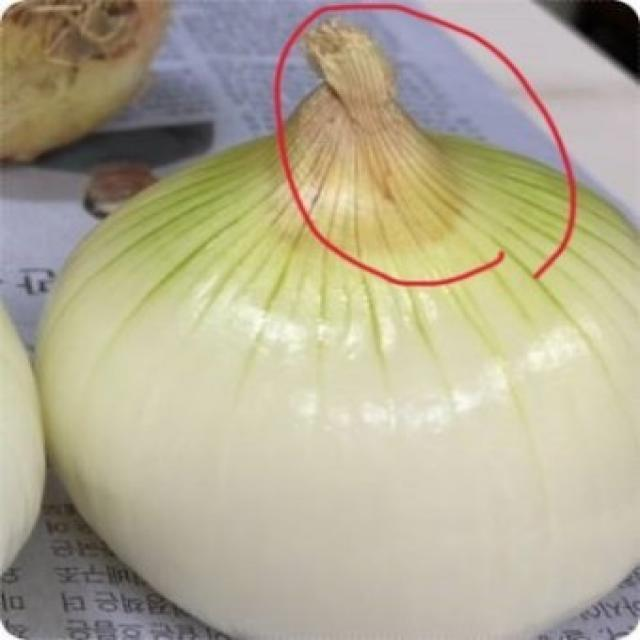Onion: (24, 29, 640, 640)
